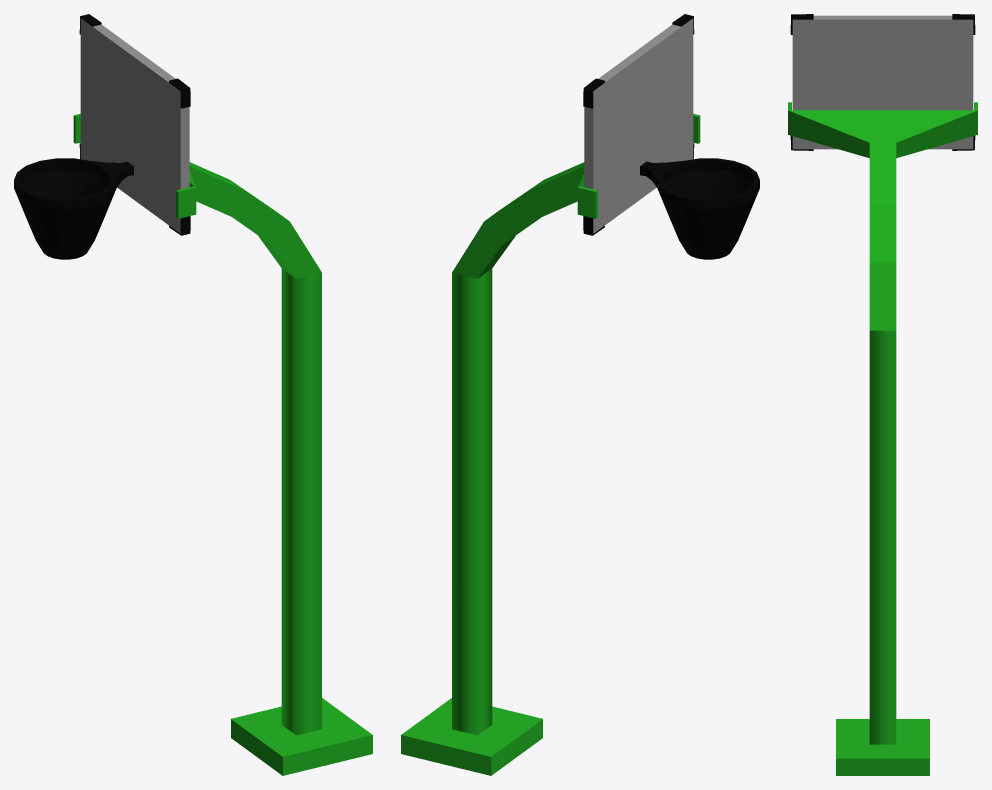
File: basketballhoop.obj
The picture shows the model from 3 angles, left to right: view 1: azimuth 30°, elevation 25°; view 2: azimuth 150°, elevation 25°; view 3: azimuth 270°, elevation 25°; orthographic projection. The views are drawn at different scales.
Parts seen in each view (by area): view 1: Cylinder001, Box001; view 2: Cylinder001, Box001; view 3: Cylinder001, Box001.
Boxes of the visible parts, bbox=[...] form: Cylinder001: bbox=[73, 113, 372, 775]; Box001: bbox=[14, 14, 190, 259]; Cylinder001: bbox=[401, 113, 700, 775]; Box001: bbox=[583, 14, 759, 259]; Cylinder001: bbox=[788, 102, 977, 775]; Box001: bbox=[790, 14, 975, 150].
Size of the model in its own units: 35.75 by 77.2 by 19.94.
